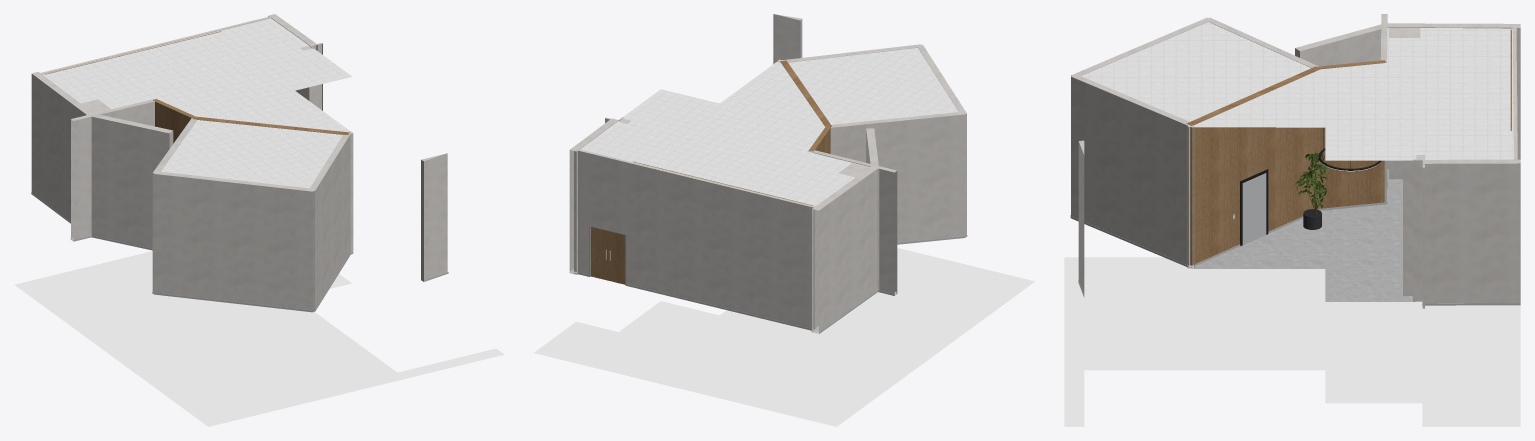
File: smart.glb
The picture shows the model from 3 angles, left to right: view 1: azimuth 30°, elevation 25°; view 2: azimuth 150°, elevation 25°; view 3: azimuth 270°, elevation 25°; orthographic projection. The views are drawn at different scales.
Parts seen in each view (by area): view 1: BAKE_statico; view 2: BAKE_statico, Anta02, Anta01; view 3: BAKE_statico, Pianta.005.
Part boxes in pixels (x1,y1,x2,y2): BAKE_statico: (14,14,504,426); BAKE_statico: (534,14,1034,426); Anta02: (590,227,608,280); Anta01: (608,231,625,284); BAKE_statico: (1064,14,1520,426); Pianta.005: (1295,151,1330,208).
Bounding box in the file's own units: 12.9 × 8.62 × 14.65.
Materials: 19 (10 with a texture image).
